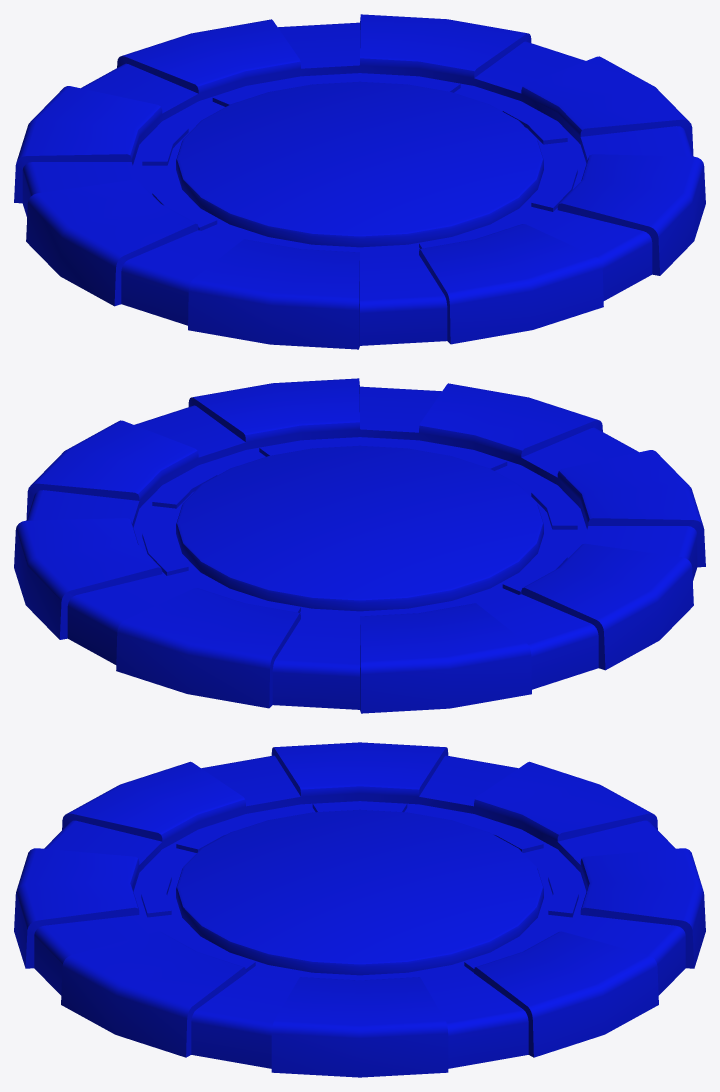
Rendered from chip.fbx.
3 views of the same model, one above another, from view 1: azimuth 30°, elevation 25°; view 2: azimuth 150°, elevation 25°; view 3: azimuth 270°, elevation 25° (orthographic).
Visible parts, largest first — view 1: Circle; view 2: Circle; view 3: Circle.
Part boxes in pixels (x1,y1,x2,y2): Circle: (14, 14, 705, 349); Circle: (14, 378, 705, 713); Circle: (14, 742, 705, 1077).
Bounding box in the file's own units: 75.47 × 5.92 × 75.47.
